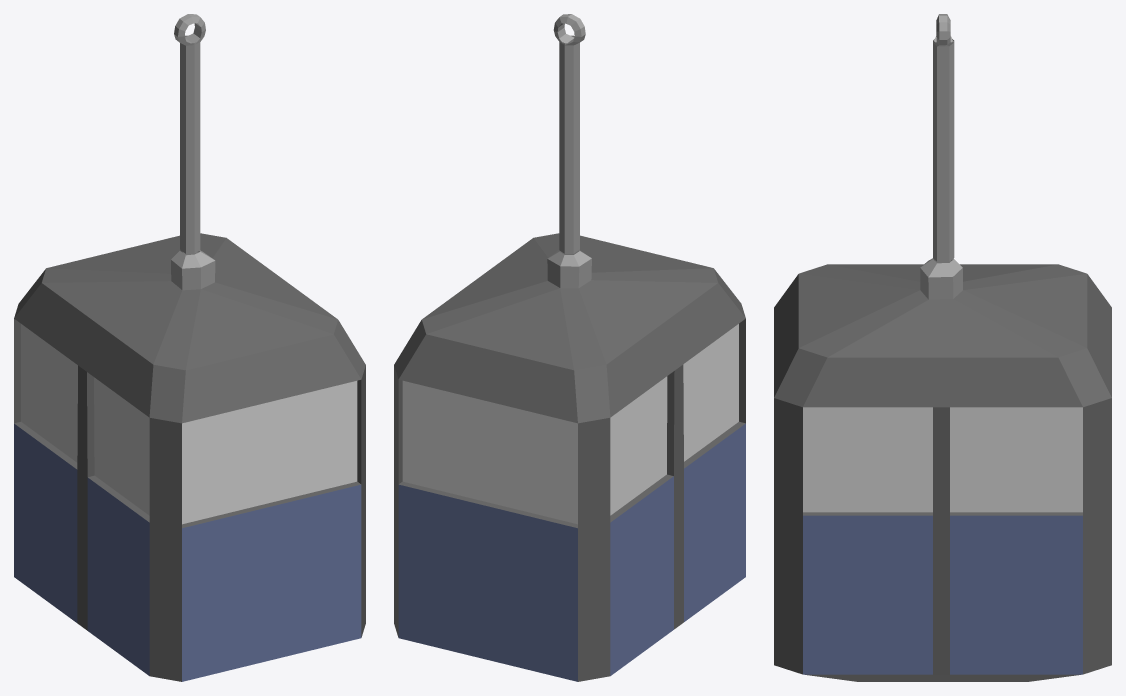
The model's file is skiliftcar2.fbx.
3 views of the same model, side by side, from view 1: azimuth 30°, elevation 25°; view 2: azimuth 150°, elevation 25°; view 3: azimuth 270°, elevation 25° (orthographic). The views are drawn at different scales.
Visible parts, largest first — view 1: skiCart; view 2: skiCart; view 3: skiCart.
Boxes of the visible parts, x1=… form: skiCart: x1=14, y1=14, x2=365, y2=681; skiCart: x1=394, y1=14, x2=745, y2=681; skiCart: x1=774, y1=14, x2=1111, y2=681.
Size of the model in its own units: 3.03 by 8.19 by 3.96.
